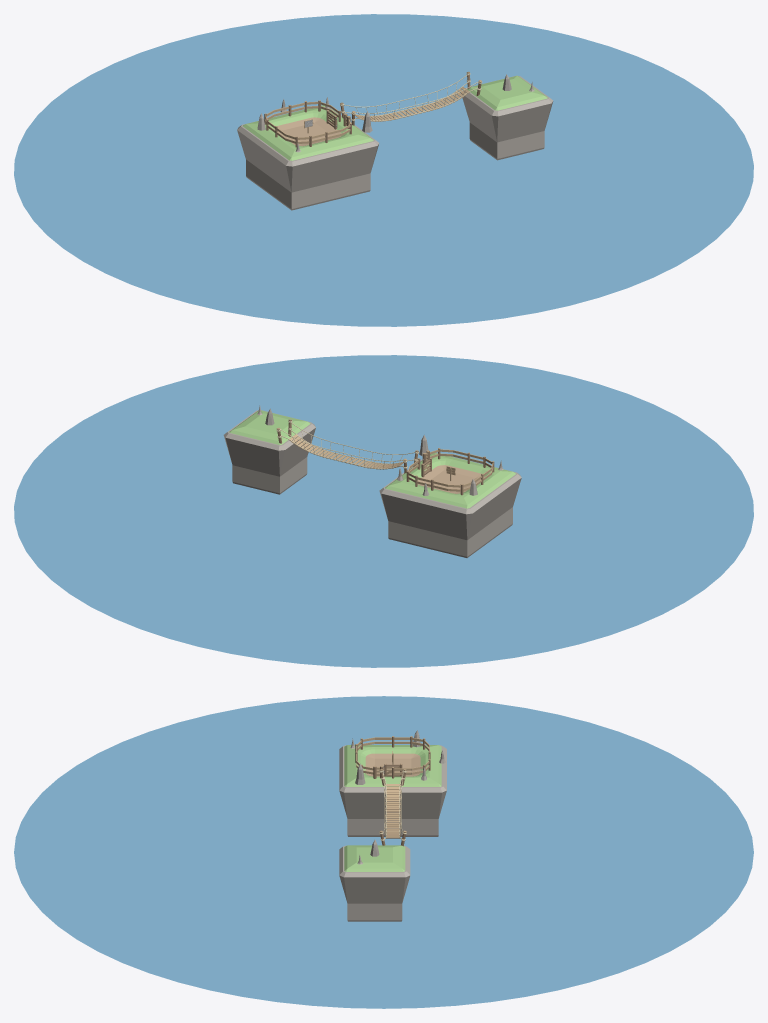
The model's file is island_bridge.glb.
3 views of the same model, one above another, from view 1: azimuth 30°, elevation 25°; view 2: azimuth 150°, elevation 25°; view 3: azimuth 270°, elevation 25° (orthographic).
Parts seen in each view (by area): view 1: 149_Water_Circle_3_Highpoly_0, 110_Basic_Curve_Outer_1x1_Top_3, 016_Basic_Curve_Outer_1x1_Top_3, 104_Basic_Straight_Top_1x1_0, 004_Basic_Straight_Top_1x1_0, 005_Basic_Straight_Top_1x1_0, 006_Basic_Straight_Top_1x1_0, 007_Basic_Straight_Top_1x1_0, 105_Basic_Straight_Top_1x1_0; view 2: 149_Water_Circle_3_Highpoly_0, 019_Basic_Curve_Outer_1x1_Top_3, 113_Basic_Curve_Outer_1x1_Top_3, 109_Basic_Straight_Top_1x1_0, 108_Basic_Straight_Top_1x1_0, 012_Basic_Straight_Top_1x1_0, 013_Basic_Straight_Top_1x1_0, 014_Basic_Straight_Top_1x1_0, 015_Basic_Straight_Top_1x1_0; view 3: 149_Water_Circle_3_Highpoly_0, 008_Basic_Straight_Top_1x1_0, 011_Basic_Straight_Top_1x1_0, 107_Basic_Straight_Top_1x1_0, 106_Basic_Straight_Top_1x1_0.
Part boxes in pixels (bbox=[...]): 149_Water_Circle_3_Highpoly_0: bbox=[14, 14, 753, 326]; 110_Basic_Curve_Outer_1x1_Top_3: bbox=[485, 106, 508, 142]; 016_Basic_Curve_Outer_1x1_Top_3: bbox=[280, 157, 303, 192]; 104_Basic_Straight_Top_1x1_0: bbox=[505, 104, 524, 140]; 004_Basic_Straight_Top_1x1_0: bbox=[299, 155, 319, 190]; 005_Basic_Straight_Top_1x1_0: bbox=[315, 151, 334, 186]; 006_Basic_Straight_Top_1x1_0: bbox=[331, 147, 350, 182]; 007_Basic_Straight_Top_1x1_0: bbox=[347, 143, 366, 178]; 105_Basic_Straight_Top_1x1_0: bbox=[521, 101, 540, 136]; 149_Water_Circle_3_Highpoly_0: bbox=[14, 355, 753, 667]; 019_Basic_Curve_Outer_1x1_Top_3: bbox=[455, 504, 478, 540]; 113_Basic_Curve_Outer_1x1_Top_3: bbox=[268, 441, 291, 476]; 109_Basic_Straight_Top_1x1_0: bbox=[236, 435, 255, 470]; 108_Basic_Straight_Top_1x1_0: bbox=[252, 439, 271, 474]; 012_Basic_Straight_Top_1x1_0: bbox=[439, 502, 459, 538]; 013_Basic_Straight_Top_1x1_0: bbox=[423, 498, 443, 534]; 014_Basic_Straight_Top_1x1_0: bbox=[408, 495, 427, 530]; 015_Basic_Straight_Top_1x1_0: bbox=[392, 491, 411, 526]; 149_Water_Circle_3_Highpoly_0: bbox=[14, 696, 753, 1008]; 008_Basic_Straight_Top_1x1_0: bbox=[411, 787, 429, 818]; 011_Basic_Straight_Top_1x1_0: bbox=[356, 787, 374, 818]; 107_Basic_Straight_Top_1x1_0: bbox=[356, 872, 374, 903]; 106_Basic_Straight_Top_1x1_0: bbox=[375, 872, 392, 903].
Size of the model in its own units: 4053 by 519 by 4053.
